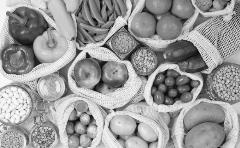organic: (182, 105, 230, 148), (154, 71, 198, 106), (166, 39, 210, 73), (82, 5, 120, 44), (109, 115, 153, 148), (46, 0, 82, 40), (7, 7, 45, 43), (210, 62, 240, 105), (66, 101, 94, 146), (36, 32, 73, 62), (2, 43, 36, 75), (1, 90, 33, 124), (74, 57, 102, 89), (110, 28, 140, 57), (100, 58, 130, 86), (131, 10, 157, 40), (130, 46, 154, 76), (154, 14, 180, 40), (172, 0, 196, 18), (144, 1, 174, 15), (31, 130, 52, 148), (5, 135, 24, 147)
